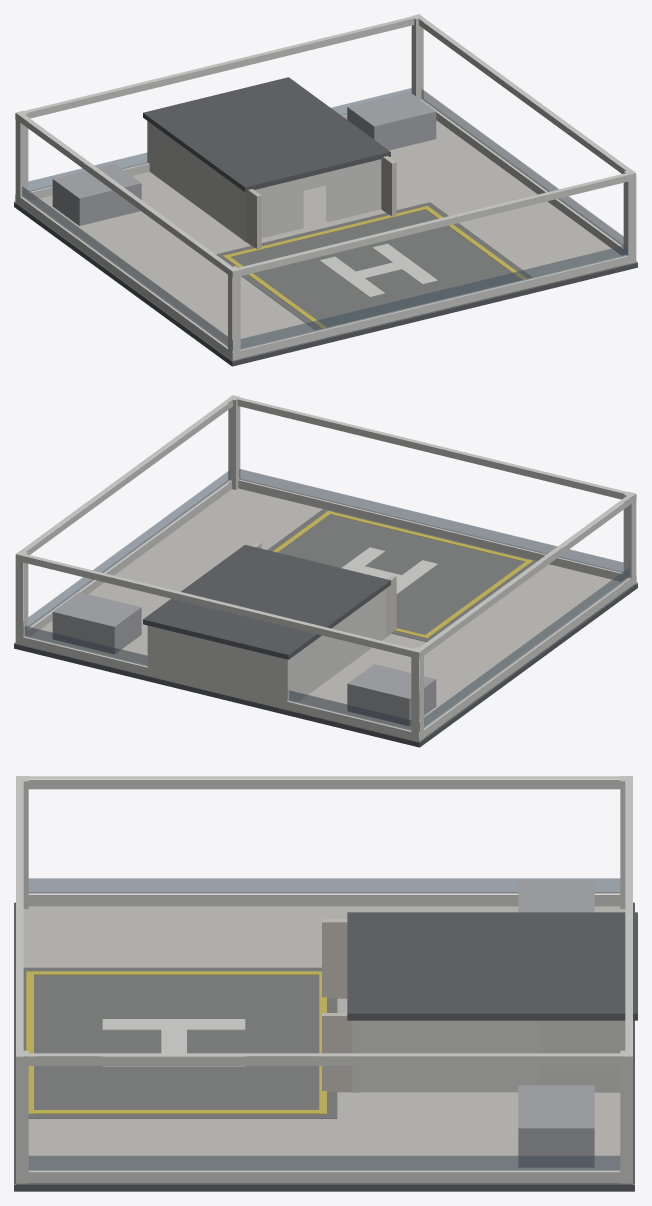
Rendered from condo-roof-a.reveal-v1.lod0.glb.
The picture shows the model from 3 angles, top to bottom: view 1: azimuth 30°, elevation 25°; view 2: azimuth 150°, elevation 25°; view 3: azimuth 270°, elevation 25°; orthographic projection. The views are drawn at different scales.
Visible parts, largest first — view 1: condo-roof-a; view 2: condo-roof-a; view 3: condo-roof-a.
Boxes of the visible parts, x1=… form: condo-roof-a: x1=14, y1=14, x2=637, y2=366; condo-roof-a: x1=14, y1=395, x2=637, y2=747; condo-roof-a: x1=14, y1=776, x2=637, y2=1191.
Bounding box in the file's own units: 26.16 × 5.84 × 24.48.
